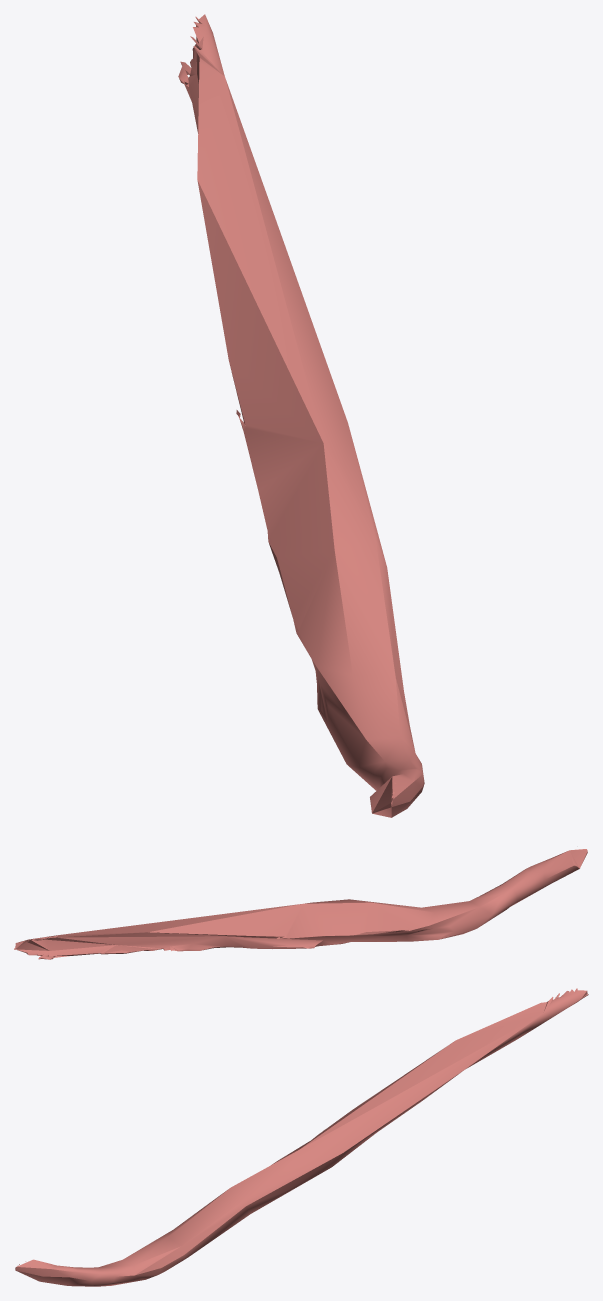
File: fma37717_fj1383.glb
The picture shows the model from 3 angles, top to bottom: view 1: azimuth 30°, elevation 25°; view 2: azimuth 150°, elevation 25°; view 3: azimuth 330°, elevation 25°; orthographic projection. The views are drawn at different scales.
Visible parts, largest first — view 1: FMA37717_FJ1383; view 2: FMA37717_FJ1383; view 3: FMA37717_FJ1383.
Boxes of the visible parts, x1,y1,x2,y2 form: FMA37717_FJ1383: (178, 14, 424, 817); FMA37717_FJ1383: (14, 849, 587, 959); FMA37717_FJ1383: (15, 988, 588, 1286).
Bounding box in the file's own units: 0.0354 × 0.0196 × 0.0854.
